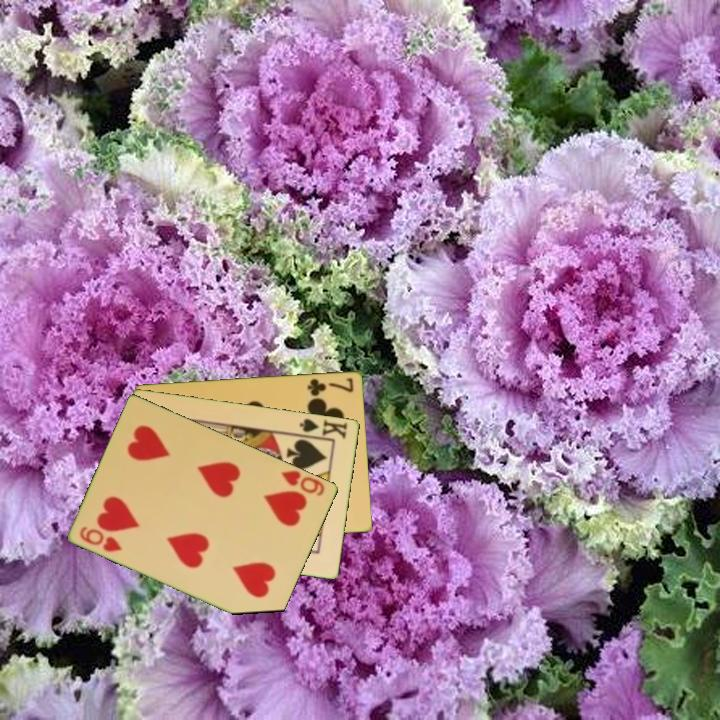6h: (278, 466, 328, 499), (76, 522, 125, 555)
7c: (304, 374, 357, 399)
Ks: (296, 415, 350, 441)
